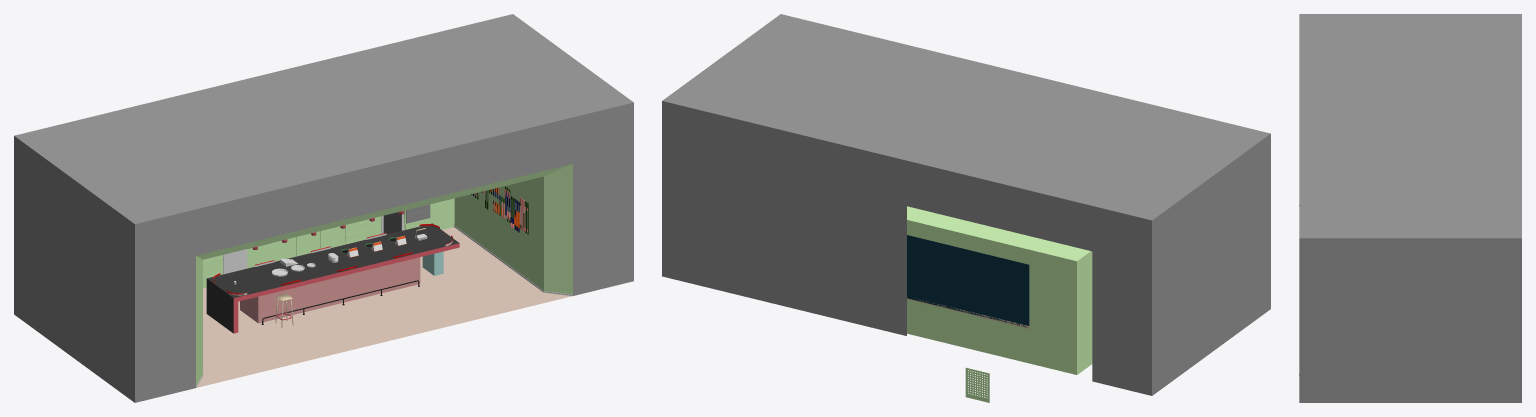
The model's file is ul-kitchen26.glb.
3 views of the same model, side by side, from view 1: azimuth 30°, elevation 25°; view 2: azimuth 150°, elevation 25°; view 3: azimuth 270°, elevation 25° (orthographic). The views are drawn at different scales.
Parts seen in each view (by area): view 1: concreteWalls, floor, mainGreenWall, mainTablePlate, mainTableBase, closetDoors, mainTableSidePannels, mainTableSidePlane; view 2: concreteWalls, mainGreenWall, MainNishBackWall, dishwasherDoor.001; view 3: concreteWalls.
Part boxes in pixels (<box>): concreteWalls: <box>14,14,633,402</box>; floor: <box>196,227,571,387</box>; mainGreenWall: <box>196,164,572,385</box>; mainTablePlate: <box>207,223,459,297</box>; mainTableBase: <box>240,257,420,323</box>; closetDoors: <box>203,198,454,284</box>; mainTableSidePannels: <box>233,243,459,333</box>; mainTableSidePlane: <box>206,279,233,333</box>; concreteWalls: <box>662,14,1270,395</box>; mainGreenWall: <box>907,206,1092,374</box>; MainNishBackWall: <box>907,235,1029,327</box>; dishwasherDoor.001: <box>965,367,989,402</box>; concreteWalls: <box>1299,14,1521,402</box>.
Size of the model in its own units: 208 by 99.24 by 87.55.
